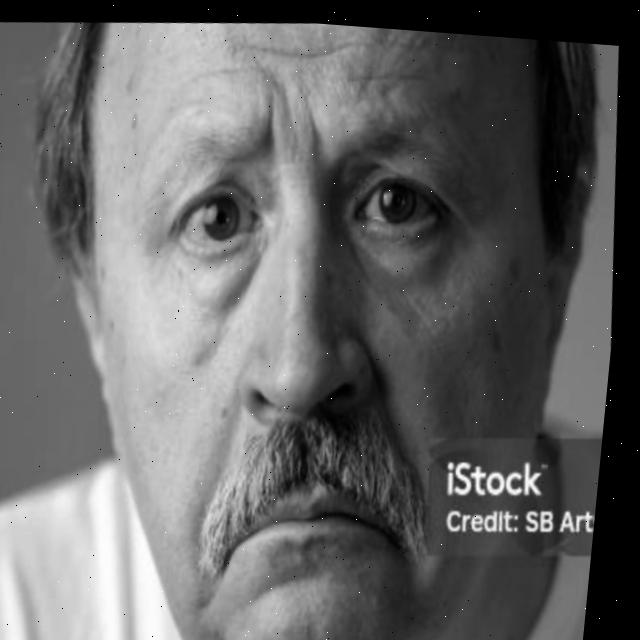sad: (25, 58, 573, 640)
